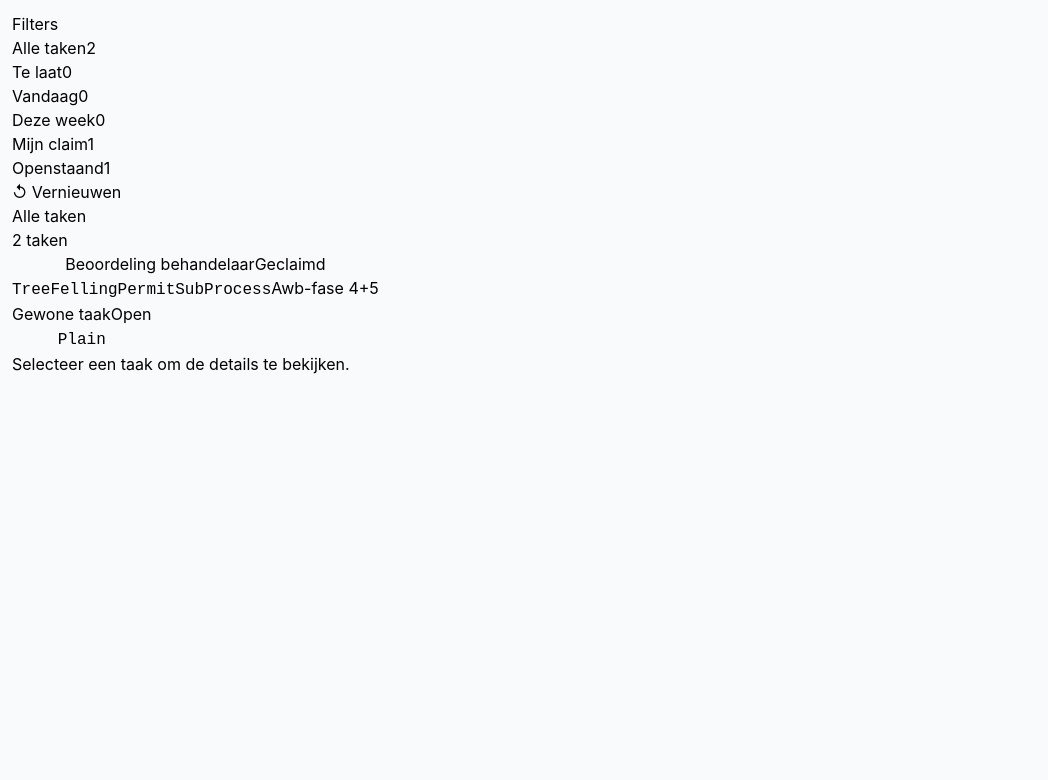
TakenInbox procesweergave › shows Waar sta ik, the steps per role and the Awb-fase hint for a laned process
The width and height of the screenshot is (1048, 780).
Expected: the text "Awb-fase 4+5" is shown, [271,278,379,298]
What coordinates should you click on to do the following:
click the text "Beoordeling behandelaar"
I would click on:
 (160, 264)
Its box is [65,254,255,274].
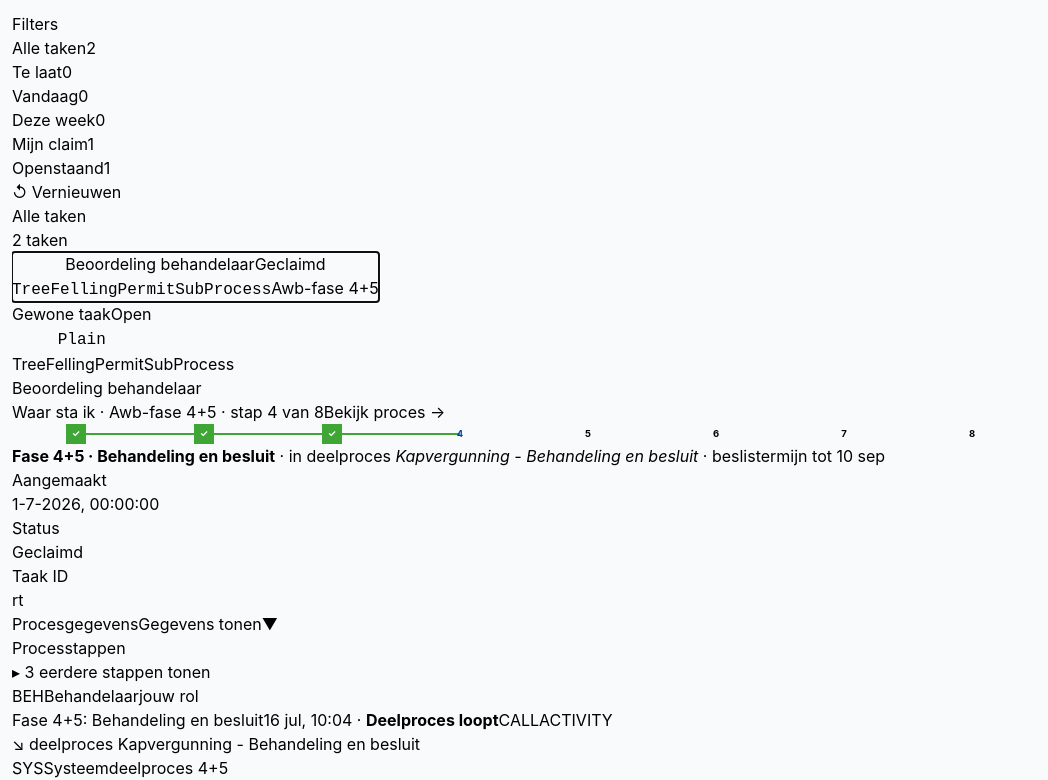
Expected: the text "Waar sta ik · Awb-fase 4+5 · stap 4 van 8" is shown, [12,402,324,422]
Expected: the element with class "cwp-where-cap" shows "beslistermijn tot 10 sep", [12,444,1036,468]
